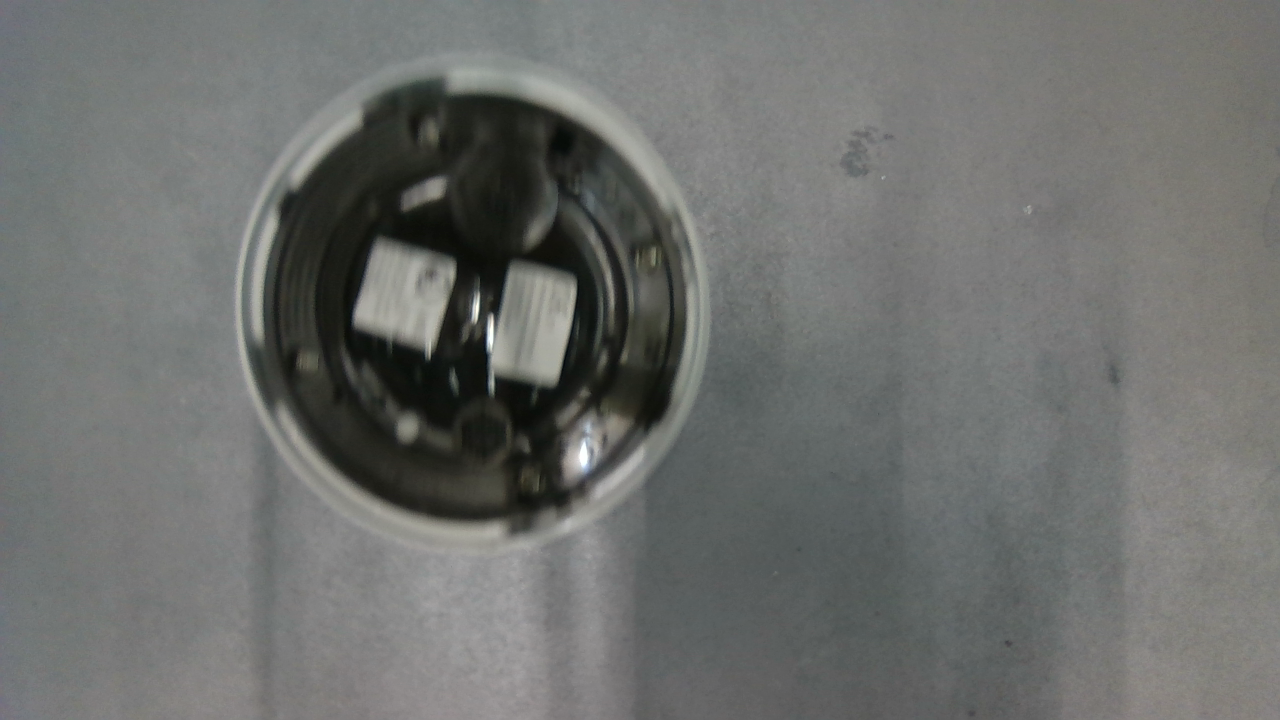HexScrew: (510, 461, 548, 497), (631, 237, 661, 277), (410, 116, 444, 148), (290, 345, 322, 375)
